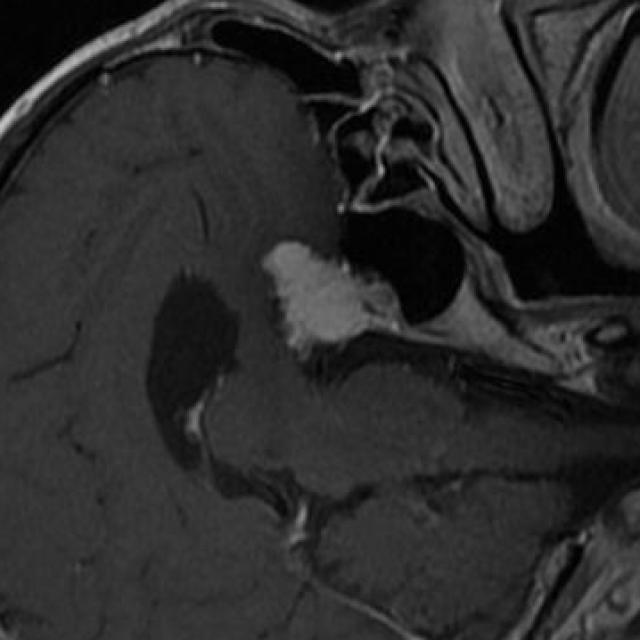meningioma: (264, 242, 389, 349)
